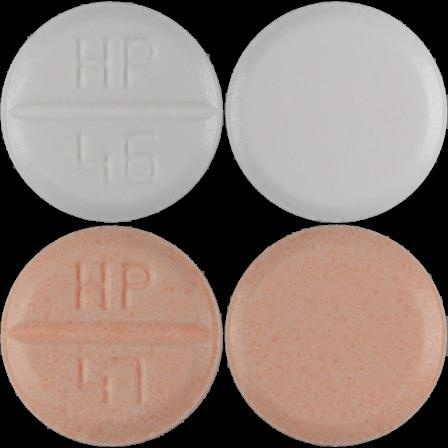23155-046: (0, 0, 224, 224)
